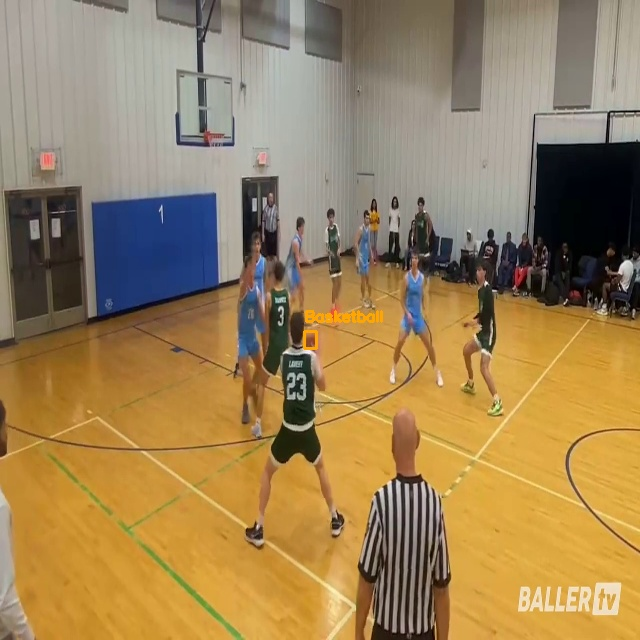Basketball: (304, 331, 316, 348)
